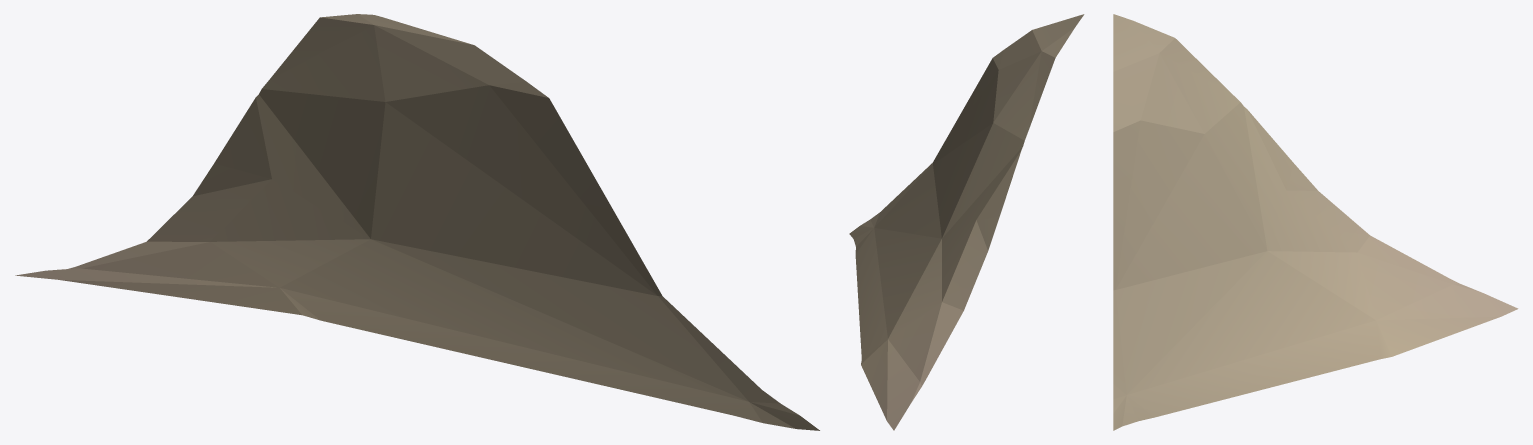
The model's file is bisect-3-5-8.gltf.
3 views of the same model, side by side, from view 1: azimuth 30°, elevation 25°; view 2: azimuth 150°, elevation 25°; view 3: azimuth 270°, elevation 25° (orthographic). The views are drawn at different scales.
Parts seen in each view (by area): view 1: bisect-3-5-8; view 2: bisect-3-5-8; view 3: bisect-3-5-8.
Boxes of the visible parts, x1,y1,x2,y2 form: bisect-3-5-8: (15,14,819,430); bisect-3-5-8: (849,14,1084,430); bisect-3-5-8: (1113,14,1518,430).
Bounding box in the file's own units: 4.51 × 5.07 × 6.33.
